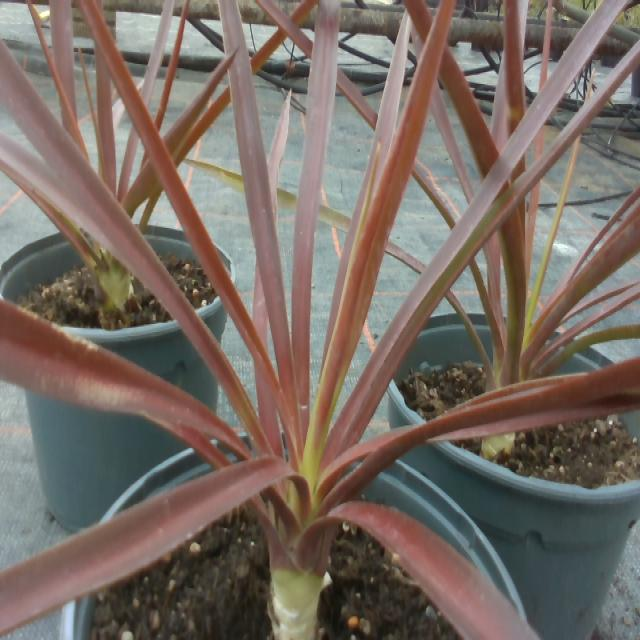Yucca-aloifolia: (324, 0, 621, 461), (0, 43, 256, 428), (79, 0, 292, 427), (301, 0, 453, 480), (0, 459, 293, 629), (0, 301, 239, 453), (222, 0, 300, 429), (329, 501, 536, 639), (292, 0, 339, 433), (0, 136, 98, 260), (354, 13, 409, 228), (526, 137, 579, 323), (439, 27, 498, 176), (164, 59, 230, 152), (500, 201, 527, 384), (431, 81, 472, 200), (155, 0, 189, 128), (177, 89, 230, 160), (499, 213, 526, 352), (141, 0, 175, 104), (257, 0, 316, 56), (501, 0, 525, 136), (445, 293, 488, 364), (412, 160, 455, 227), (268, 92, 290, 221), (96, 40, 114, 192), (50, 0, 75, 103), (338, 71, 377, 128), (491, 45, 510, 147), (125, 163, 159, 212), (252, 28, 286, 73), (196, 161, 243, 189), (539, 0, 552, 89), (404, 0, 433, 39), (386, 243, 425, 272), (525, 187, 538, 273), (257, 379, 278, 427), (253, 272, 267, 340), (338, 231, 356, 281), (485, 244, 499, 301), (517, 0, 528, 67), (123, 133, 136, 185), (320, 205, 348, 229), (289, 0, 317, 24), (328, 284, 342, 331), (510, 157, 524, 185), (277, 188, 296, 208), (503, 0, 511, 40), (354, 99, 372, 116), (534, 133, 543, 157)
